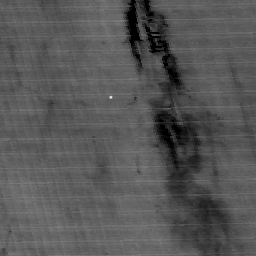Target: (107, 93, 115, 101)
